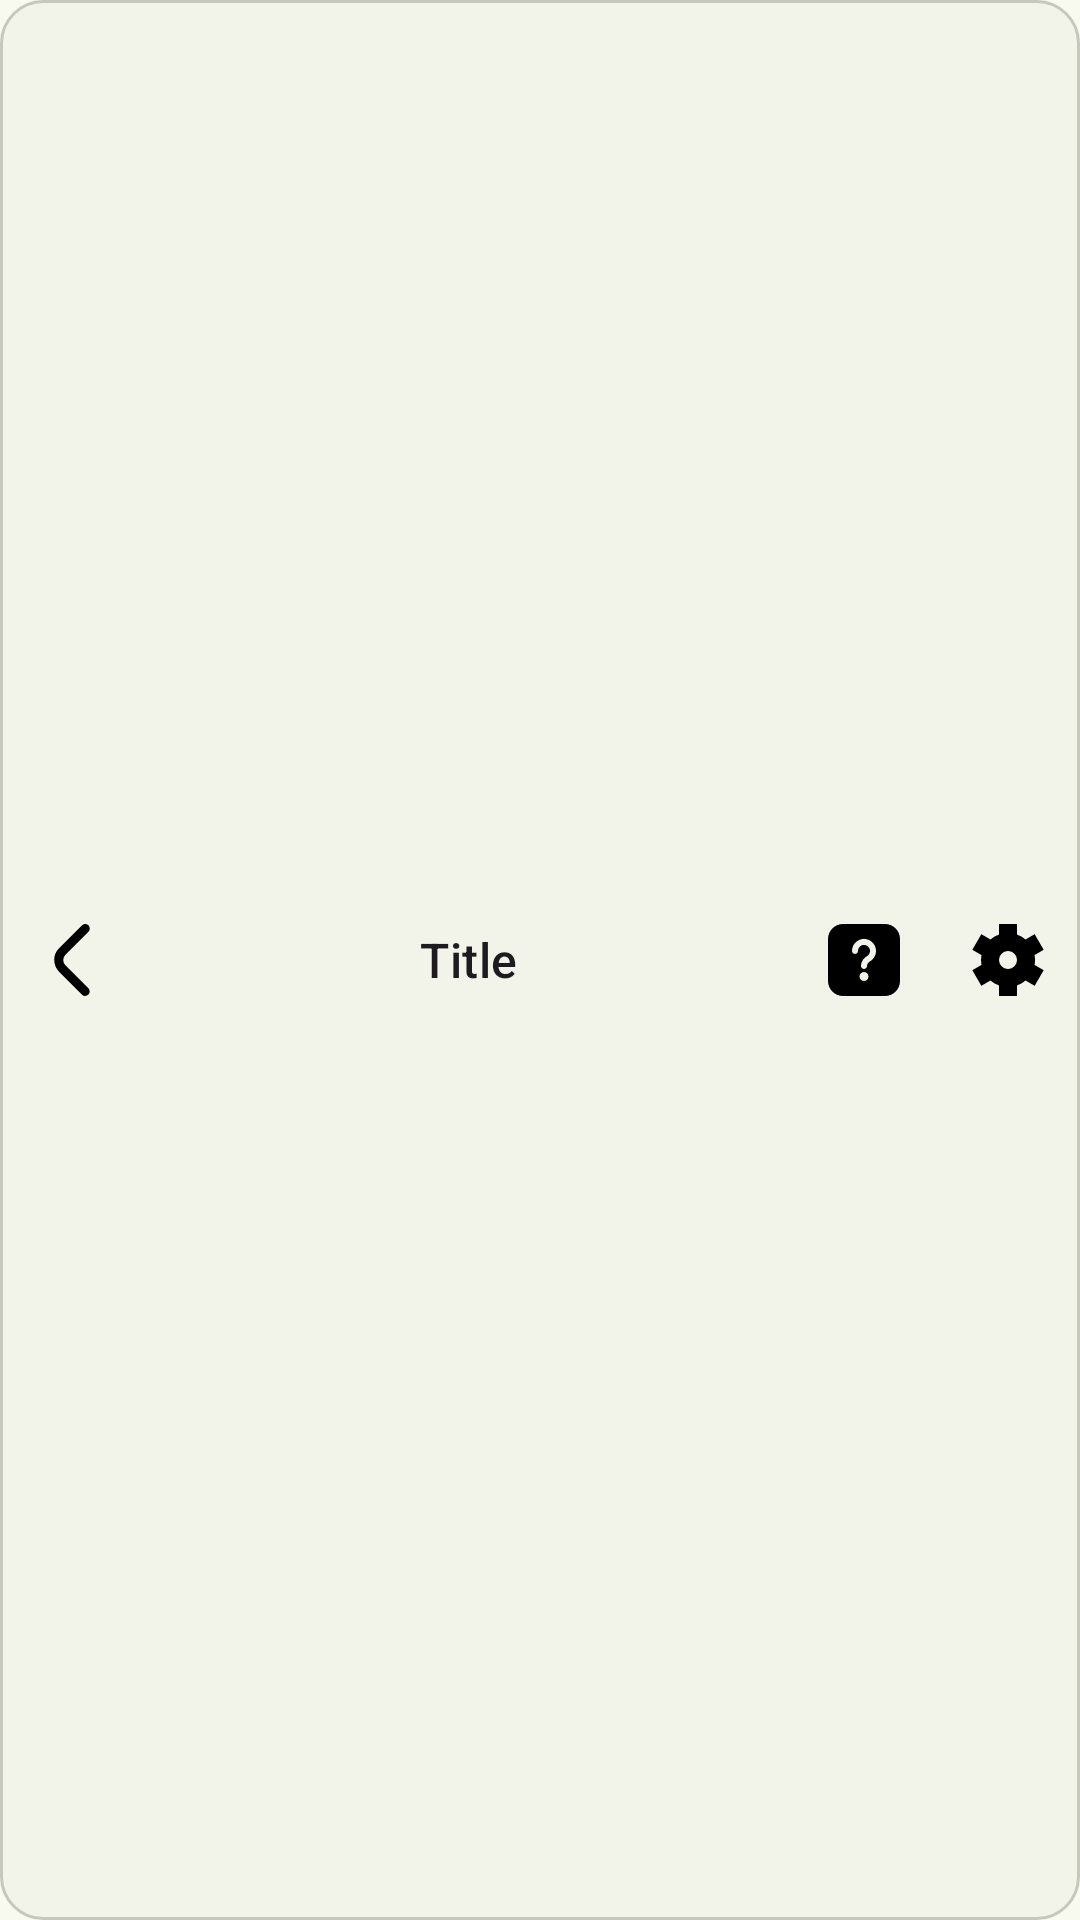

Icon click points for this 1080px x 1920px phone screenshot, format (x,y):
Back button: (72,960)
Hints: (864,960)
Options: (1008,960)
